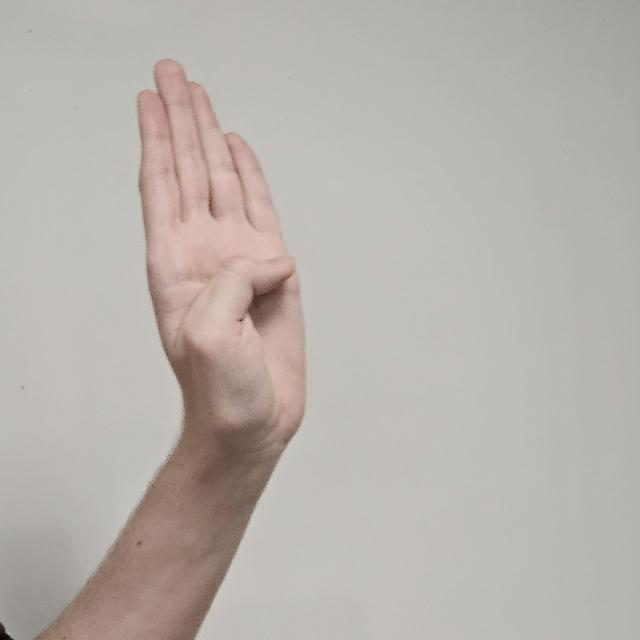Baixo: (130, 44, 320, 524)
